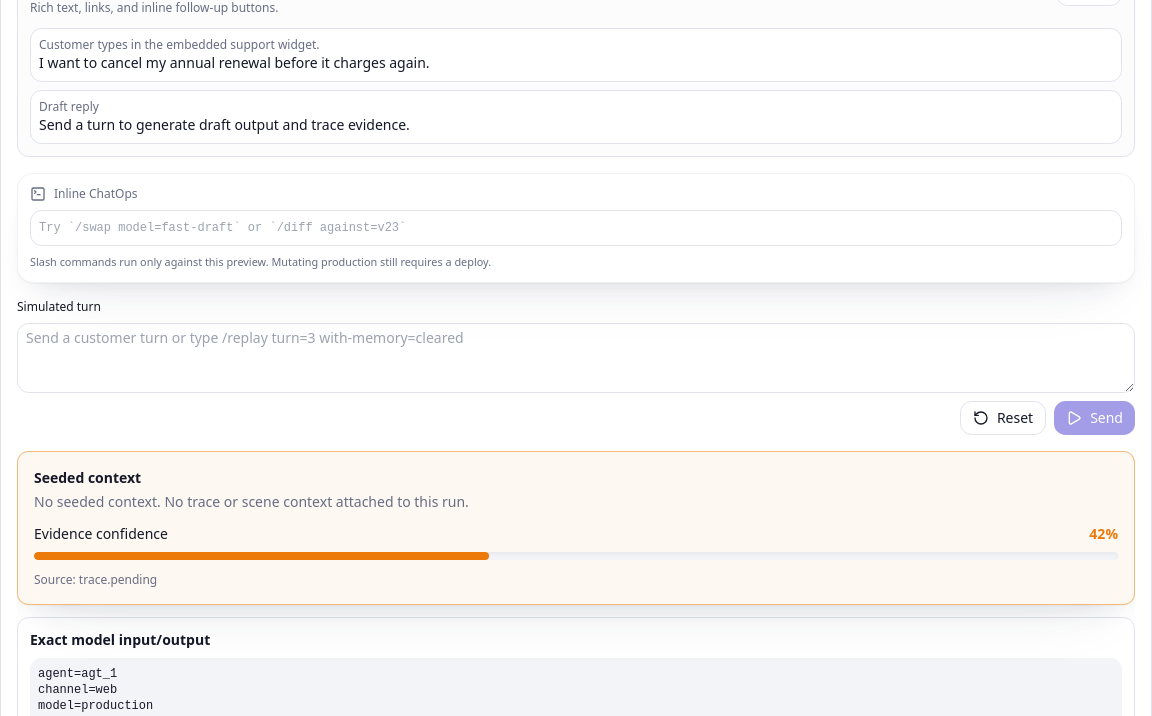
Scenario: EmulatorPanel › shows an error state for unsupported slash commands
The width and height of the screenshot is (1152, 716).
(page scrolled)
Replace the text in the text box with test id "emulator-input" with "/unknown now" at [576, 358], box [17,323,1135,393]
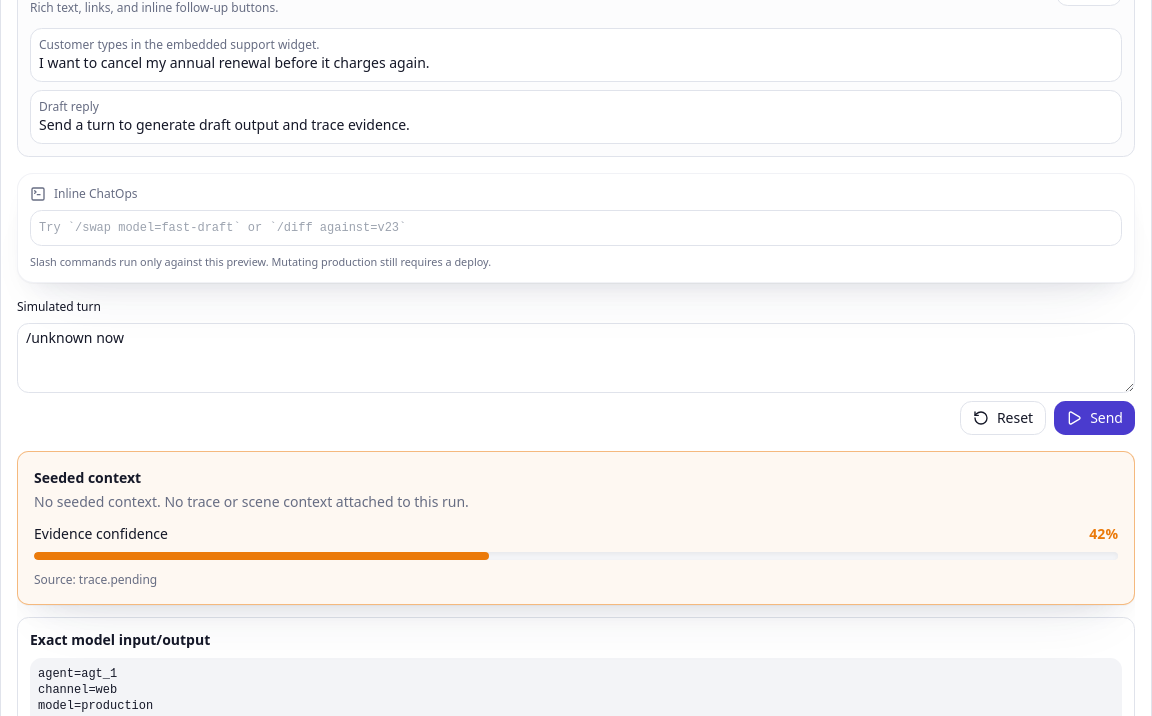
Click the button with test id "emulator-send".
click(1095, 418)  # box [1054,401,1135,435]
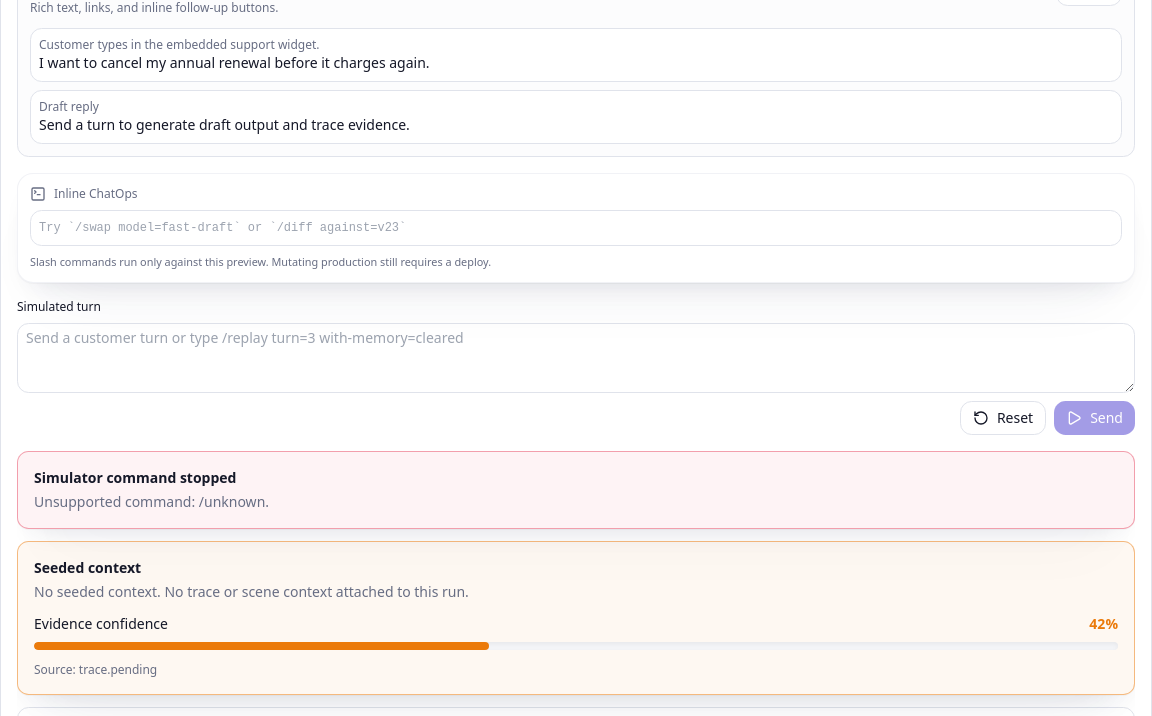
Expected: the text with test id "emulator-error" shows "Unsupported command", [34,492,269,511]
